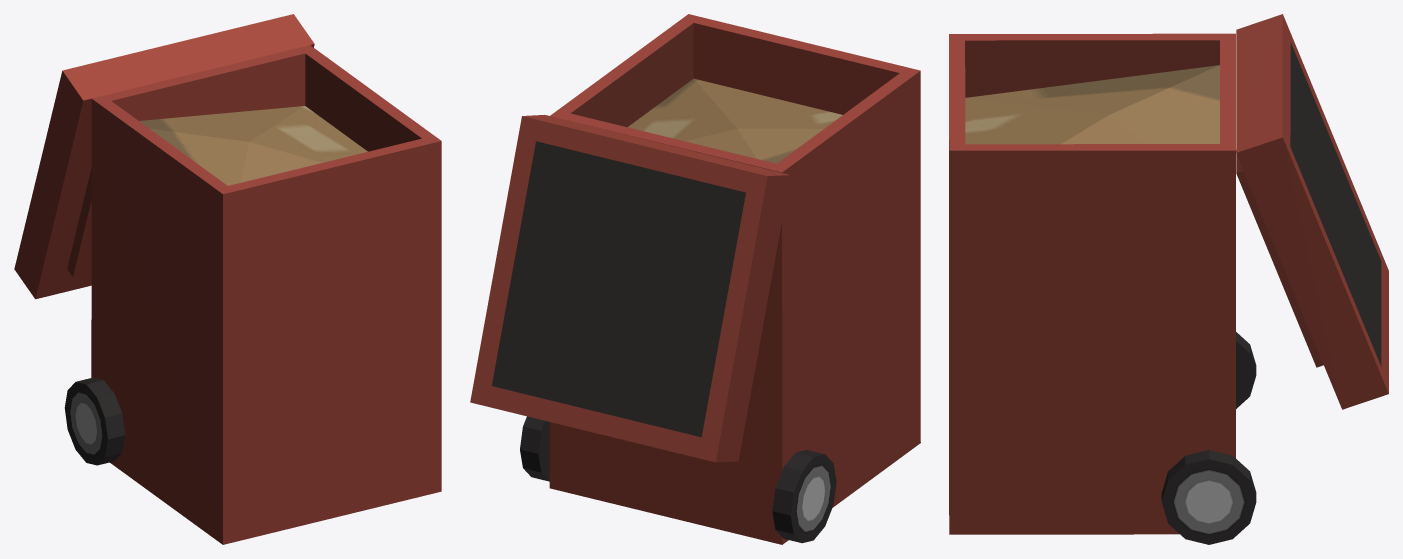
Rendered from SM_WheelieBin_Open_02.fbx.
The picture shows the model from 3 angles, left to right: view 1: azimuth 30°, elevation 25°; view 2: azimuth 150°, elevation 25°; view 3: azimuth 270°, elevation 25°; orthographic projection. The views are drawn at different scales.
Parts seen in each view (by area): view 1: SM_WheelieBin_Open_02; view 2: SM_WheelieBin_Open_02; view 3: SM_WheelieBin_Open_02.
Part boxes in pixels (x1,y1,x2,y2): SM_WheelieBin_Open_02: [14, 14, 441, 544]; SM_WheelieBin_Open_02: [470, 14, 920, 544]; SM_WheelieBin_Open_02: [949, 14, 1388, 544].
Bounding box in the file's own units: 1.17 × 1.6 × 1.59.
